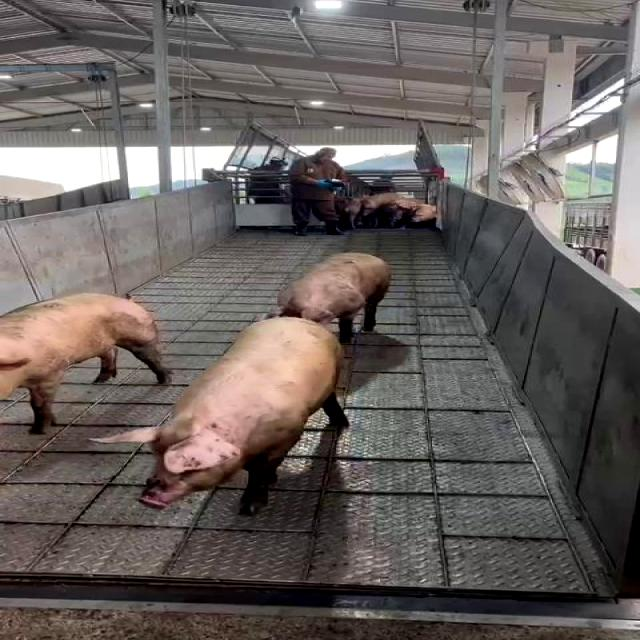pig: (96, 318, 348, 513), (100, 317, 347, 513), (1, 294, 169, 432), (277, 253, 391, 342)
